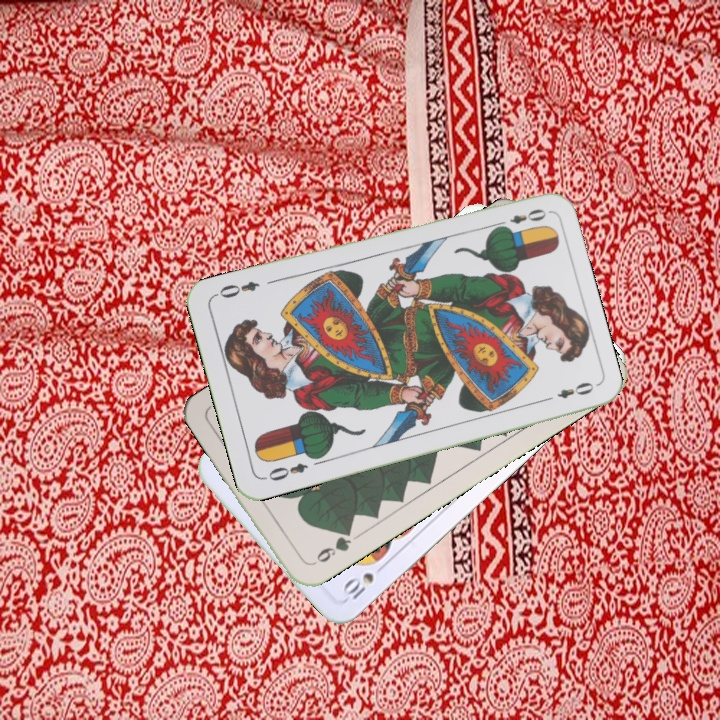EO: (491, 204, 549, 231), (264, 458, 311, 484)
G9: (306, 524, 355, 569)
S10: (337, 559, 388, 603)
